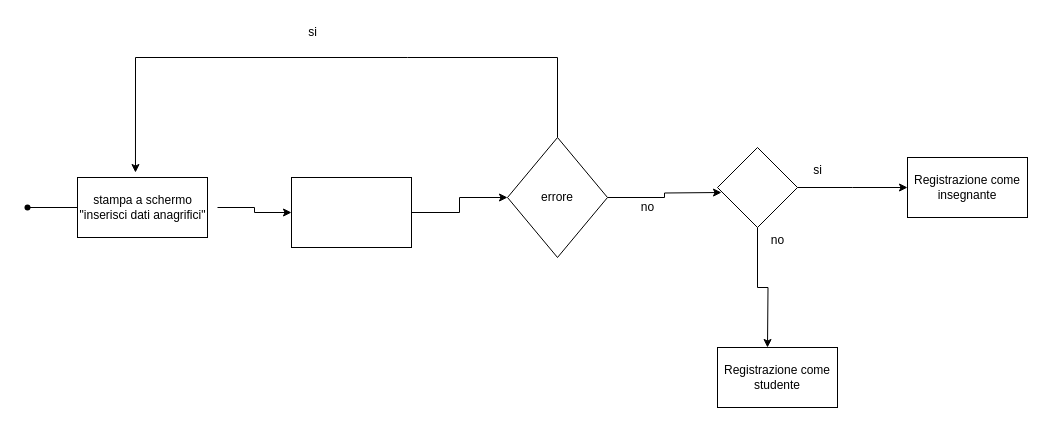
This 1045x425 diagram has some shape labels left out. The shapes that lost their labels are listed below. From the top down, each one's box as (x1, y1, x2, y2) in pixels, then its label:
(716, 146, 798, 228): insegnante?
(290, 176, 412, 248): Presi in input"dati anagrafici"
